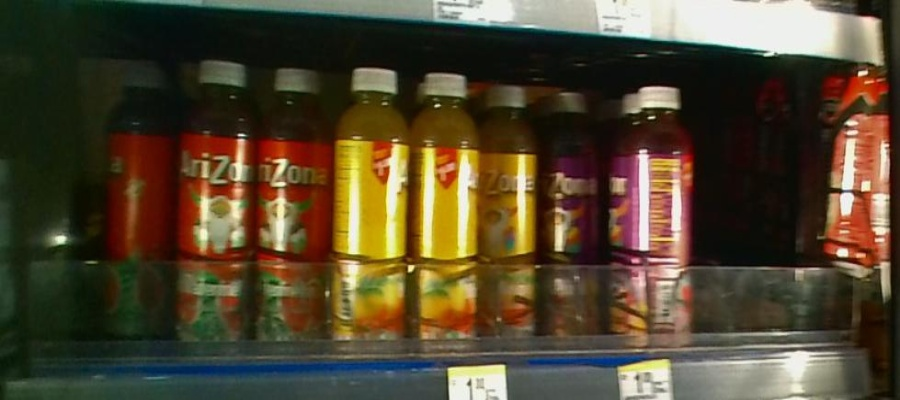bottle: (334, 70, 415, 365), (254, 54, 331, 355), (177, 45, 252, 354), (102, 46, 176, 336), (627, 77, 696, 352), (416, 71, 478, 359), (541, 93, 601, 348), (482, 73, 537, 351)
